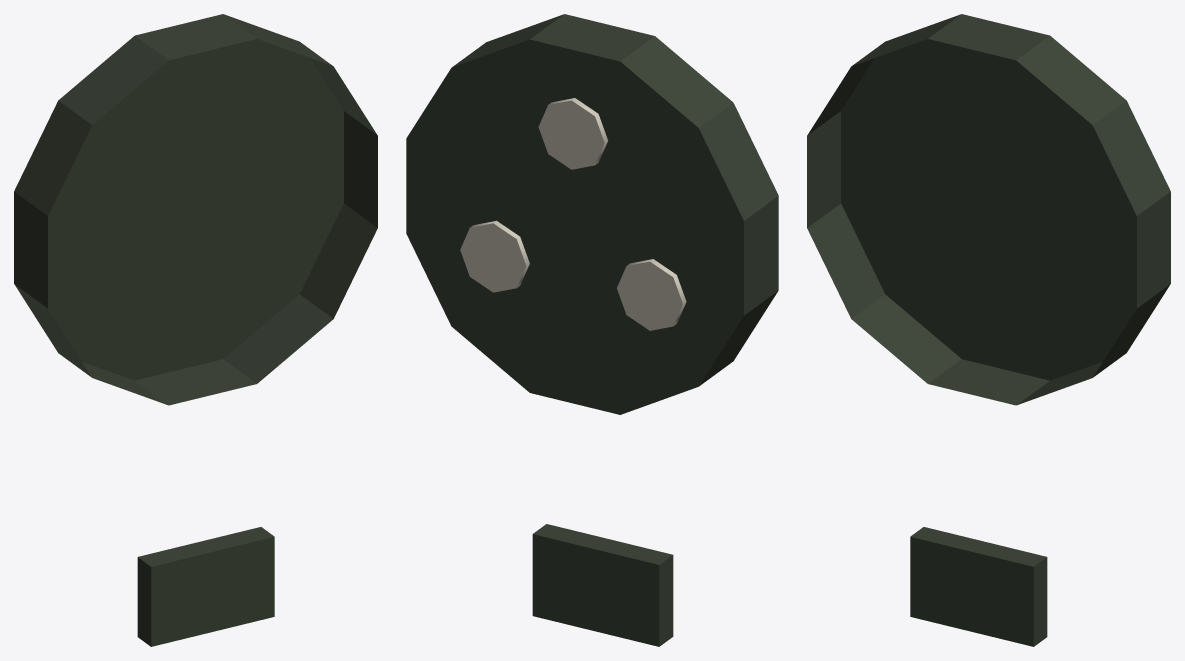
File: tz28v_busbar.obj
The picture shows the model from 3 angles, left to right: view 1: azimuth 30°, elevation 25°; view 2: azimuth 150°, elevation 25°; view 3: azimuth 330°, elevation 25°; orthographic projection. The views are drawn at different scales.
Visible parts, largest first — view 1: tz28v_busbar; view 2: tz28v_busbar; view 3: tz28v_busbar.
Part boxes in pixels (x1,y1,x2,y2): tz28v_busbar: [14, 14, 377, 646]; tz28v_busbar: [406, 14, 778, 646]; tz28v_busbar: [807, 14, 1170, 646].
Bounding box in the file's own units: 1.12 × 1.89 × 0.22.
